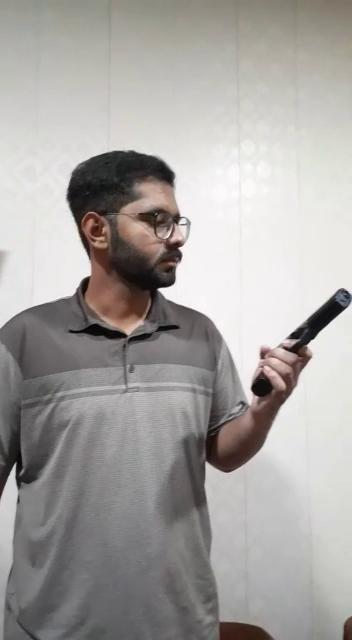criminal: (0, 147, 352, 640)
weapon: (249, 285, 352, 401)
